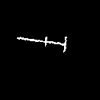double_crochet: (17, 37, 66, 51)
